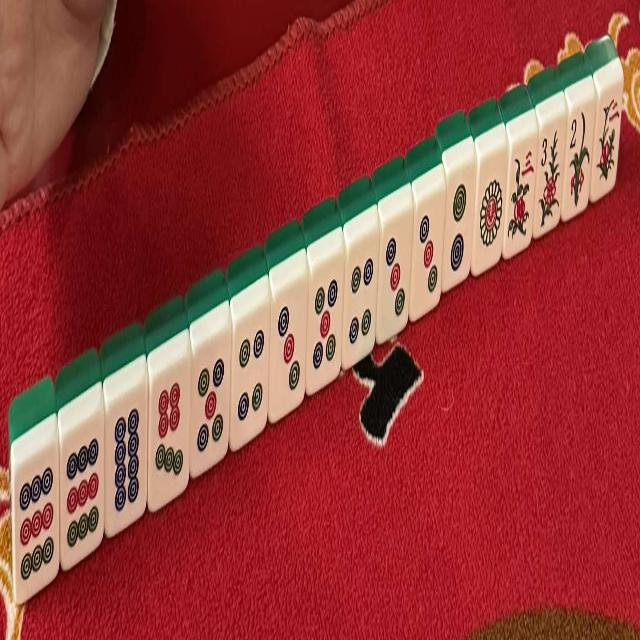f2: (566, 105, 591, 218)
f3: (537, 123, 562, 233)
ff2: (594, 84, 620, 194)
ff3: (509, 142, 536, 251)
t1: (477, 156, 507, 266)
t2: (446, 169, 474, 288)
t3: (273, 289, 305, 408), (380, 222, 410, 330), (413, 201, 442, 309)
t4: (235, 316, 268, 434), (346, 243, 376, 360)
t5: (193, 346, 230, 466), (309, 266, 342, 382)
t7: (152, 371, 189, 496)
t8: (108, 399, 144, 523)
t9: (18, 458, 58, 591), (63, 427, 102, 558)
